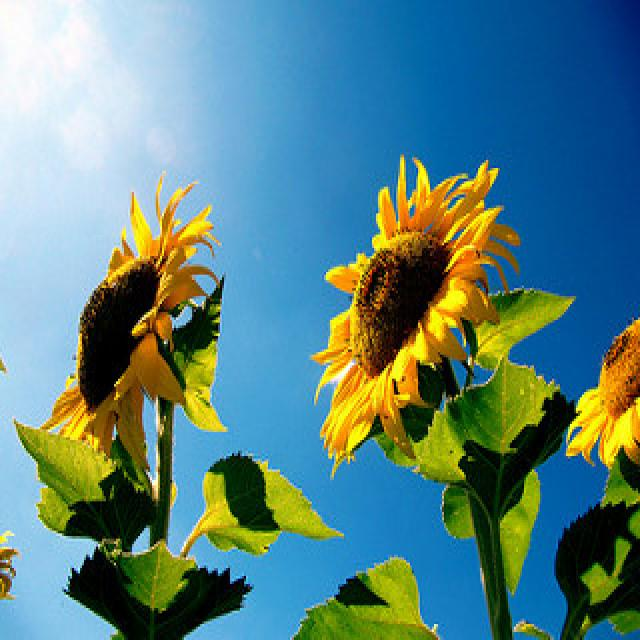sunflower: (304, 143, 526, 481), (34, 168, 224, 475), (562, 311, 640, 473)
